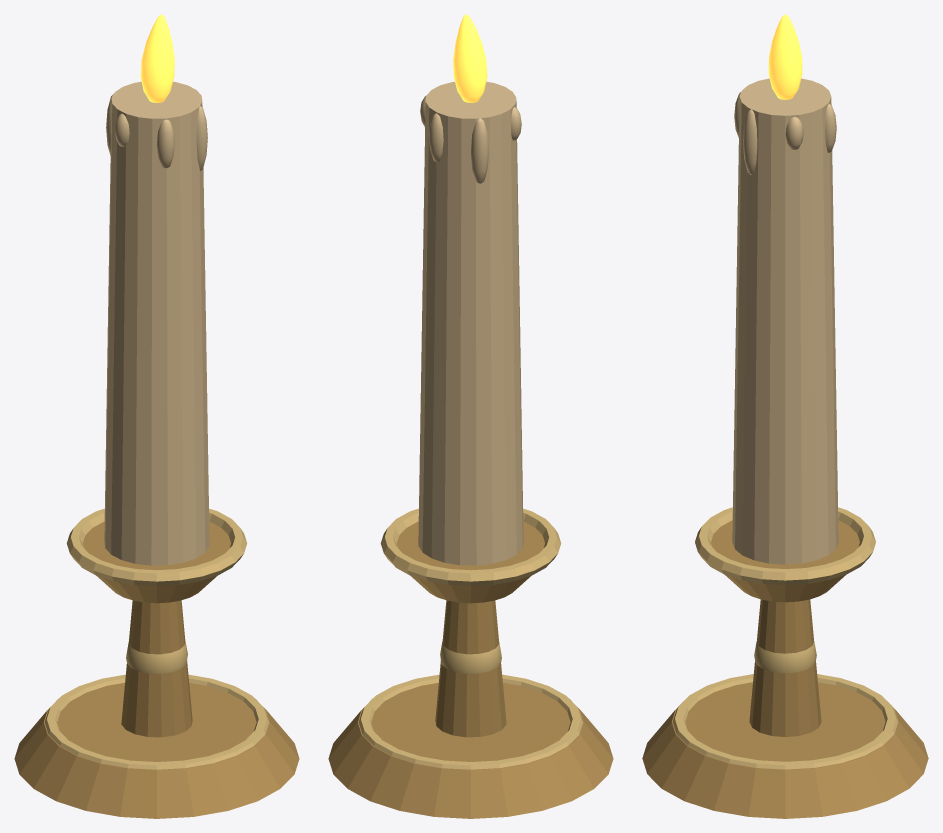
Rendered from wizard_candle_135.glb.
The picture shows the model from 3 angles, left to right: view 1: azimuth 30°, elevation 25°; view 2: azimuth 150°, elevation 25°; view 3: azimuth 270°, elevation 25°; orthographic projection.
Visible parts, largest first — view 1: wizard_candle_135_Static, wizard_candle_135_Flame; view 2: wizard_candle_135_Static, wizard_candle_135_Flame; view 3: wizard_candle_135_Static, wizard_candle_135_Flame.
Part boxes in pixels (bbox=[...]): wizard_candle_135_Static: bbox=[14, 81, 299, 818]; wizard_candle_135_Flame: bbox=[140, 14, 174, 102]; wizard_candle_135_Static: bbox=[328, 81, 613, 818]; wizard_candle_135_Flame: bbox=[453, 14, 487, 102]; wizard_candle_135_Static: bbox=[642, 78, 928, 818]; wizard_candle_135_Flame: bbox=[768, 14, 802, 99].
Bounding box in the file's own units: 0.78 × 2.24 × 0.78.
